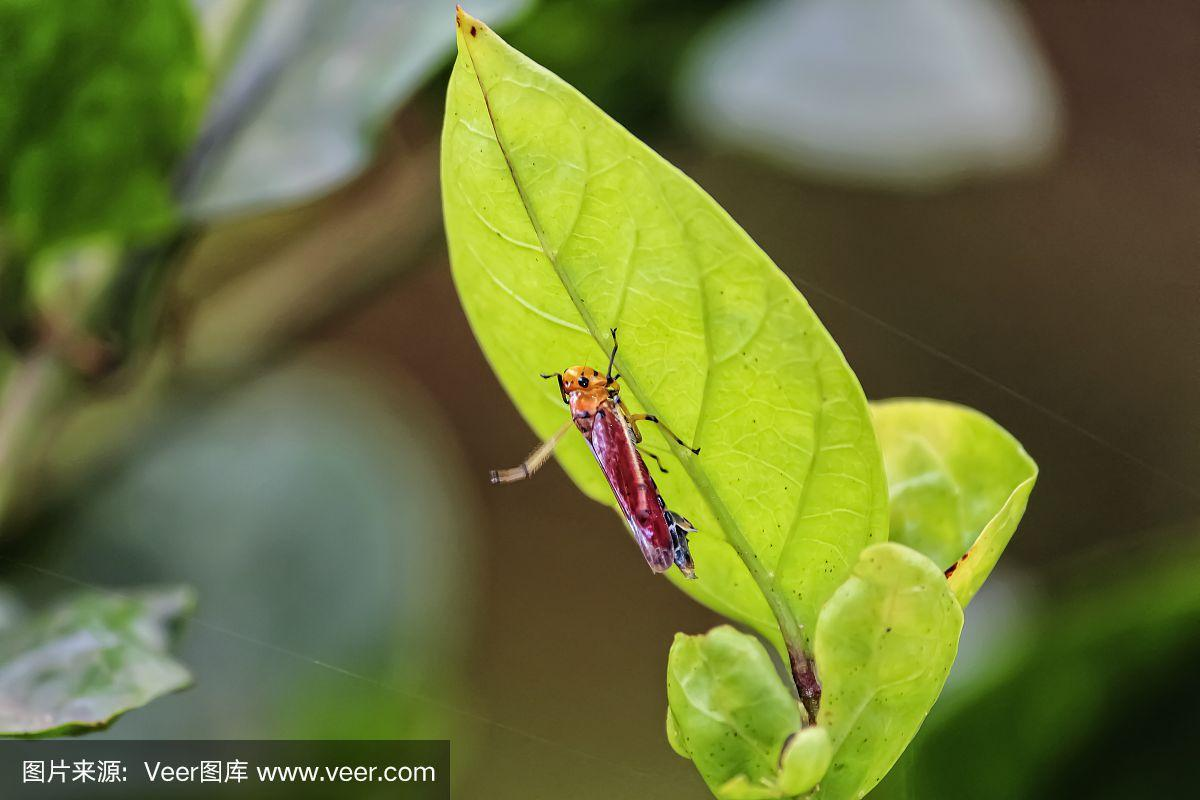Cicadellidae: (488, 327, 700, 585)
